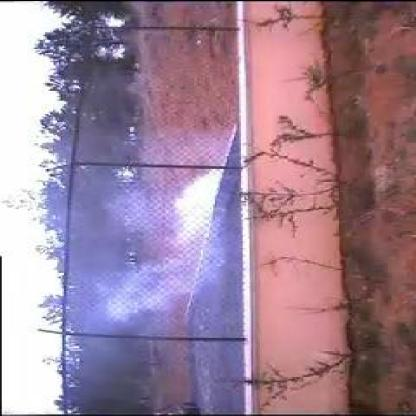-: (76, 164, 228, 322)
